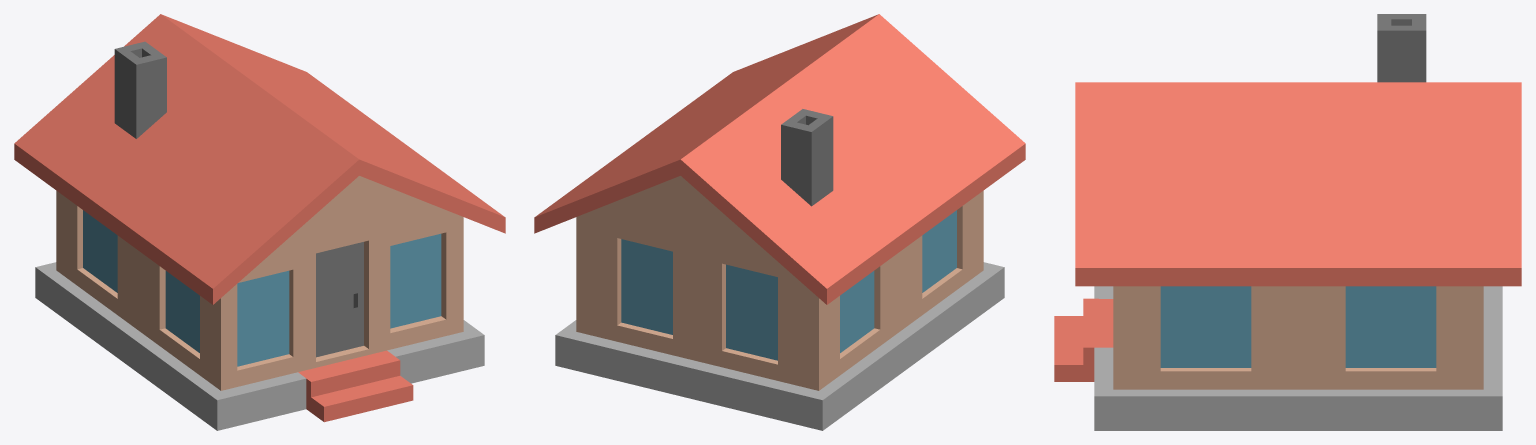
The model's file is House 1.3.fbx.
3 views of the same model, side by side, from view 1: azimuth 30°, elevation 25°; view 2: azimuth 150°, elevation 25°; view 3: azimuth 270°, elevation 25° (orthographic). The views are drawn at different scales.
Visible parts, largest first — view 1: House_Type1_3; view 2: House_Type1_3; view 3: House_Type1_3.
Part boxes in pixels (x1,y1,x2,y2): House_Type1_3: (14,14,505,430); House_Type1_3: (534,14,1025,430); House_Type1_3: (1054,14,1521,430).
Size of the model in its own units: 399 by 342 by 491.
